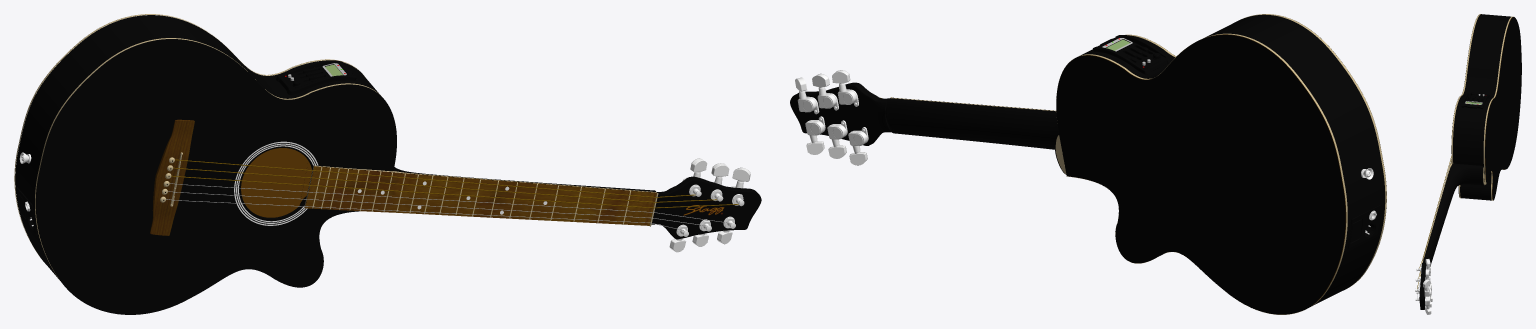
Rendered from guitar.glb.
3 views of the same model, side by side, from view 1: azimuth 30°, elevation 25°; view 2: azimuth 150°, elevation 25°; view 3: azimuth 270°, elevation 25° (orthographic). The views are drawn at different scales.
Visible parts, largest first — view 1: Object_17, Object_8, Object_5, Object_10, Object_6, Object_11, Object_14, Object_13, Object_3, Object_52, Object_7, Object_30 (+1 smaller); view 2: Object_16, Object_5, Object_3, Object_52, Object_26, Object_22, Object_41, Object_42, Object_38, Object_39, Object_43, Object_28 (+3 smaller); view 3: Object_5, Object_16, Object_3, Object_52, Object_22, Object_15, Object_17, Object_14, Object_28, Object_10, Object_40, Object_43.
Boxes of the visible parts, left/top/right/bottom form: Object_17: left=35, top=39, right=396, bottom=314; Object_8: left=305, top=166, right=656, bottom=225; Object_5: left=15, top=15, right=379, bottom=279; Object_10: left=241, top=148, right=312, bottom=217; Object_6: left=652, top=184, right=760, bottom=234; Object_11: left=150, top=119, right=194, bottom=235; Object_14: left=171, top=159, right=738, bottom=208; Object_13: left=166, top=183, right=730, bottom=230; Object_3: left=305, top=165, right=761, bottom=239; Object_52: left=14, top=14, right=658, bottom=281; Object_7: left=312, top=167, right=630, bottom=224; Object_30: left=234, top=141, right=547, bottom=225; Object_16: left=1056, top=35, right=1345, bottom=314; Object_5: left=1076, top=15, right=1384, bottom=309; Object_3: left=790, top=82, right=1066, bottom=174; Object_52: left=890, top=14, right=1386, bottom=314; Object_26: left=1348, top=204, right=1381, bottom=248; Object_22: left=1093, top=35, right=1172, bottom=74; Object_41: left=848, top=127, right=868, bottom=165; Object_42: left=827, top=120, right=847, bottom=158; Object_38: left=832, top=70, right=858, bottom=106; Object_39: left=812, top=73, right=838, bottom=110; Object_43: left=805, top=116, right=825, bottom=154; Object_28: left=1100, top=37, right=1165, bottom=68; Object_5: left=1453, top=14, right=1510, bottom=200; Object_16: left=1485, top=17, right=1521, bottom=200; Object_3: left=1419, top=159, right=1484, bottom=309; Object_52: left=1422, top=14, right=1513, bottom=261; Object_22: left=1461, top=92, right=1489, bottom=108; Object_15: left=1424, top=160, right=1484, bottom=256; Object_17: left=1451, top=14, right=1481, bottom=197; Object_14: left=1417, top=156, right=1451, bottom=288; Object_28: left=1464, top=93, right=1486, bottom=104; Object_10: left=1484, top=17, right=1512, bottom=198; Object_40: left=1415, top=279, right=1430, bottom=296; Object_43: left=1415, top=296, right=1431, bottom=314.
Bounding box in the file's own units: 9.62 × 4.13 × 2.51.
Materials: 21 (4 with a texture image).
